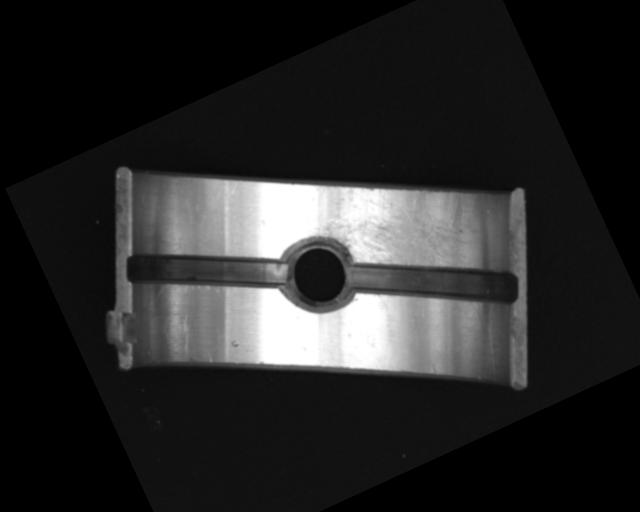bruise: (228, 337, 241, 349)
gap: (347, 209, 521, 358), (122, 199, 292, 340)
hole: (272, 226, 364, 322)
nick: (166, 312, 204, 360)
scratch: (298, 141, 483, 317)
